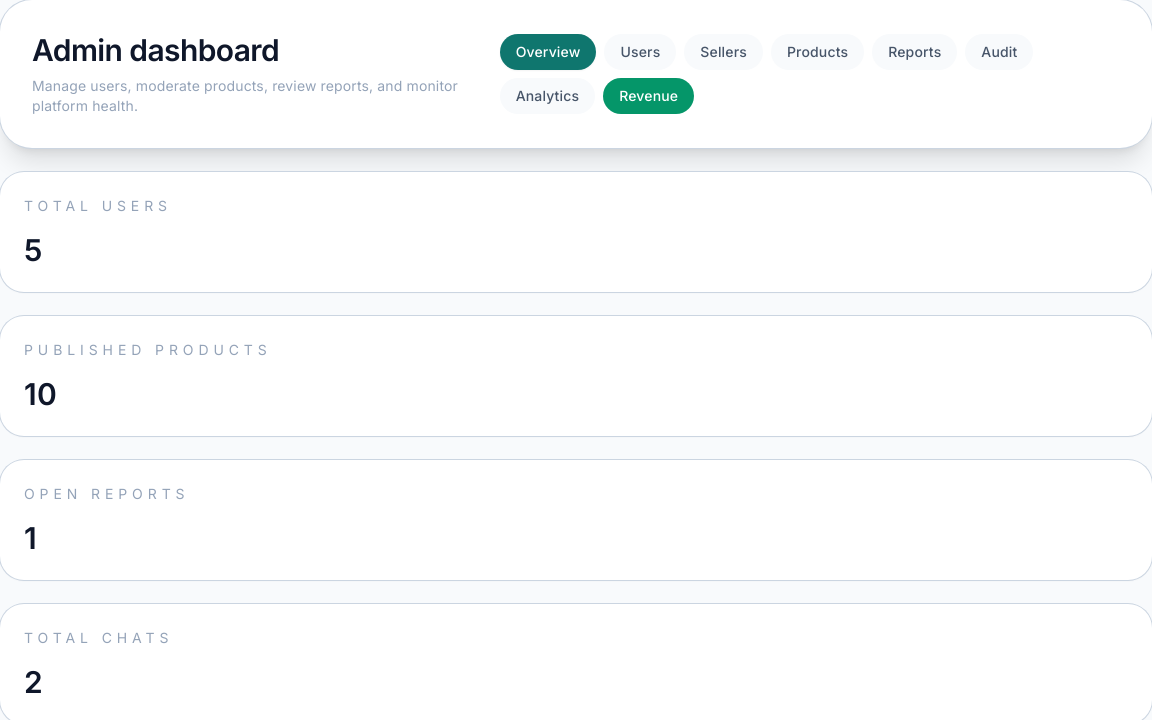
Test case: AdminDashboardPage › can switch to products and reports tabs
Step 1. Click the button "Products" → click(818, 52), box [771,34,864,70]
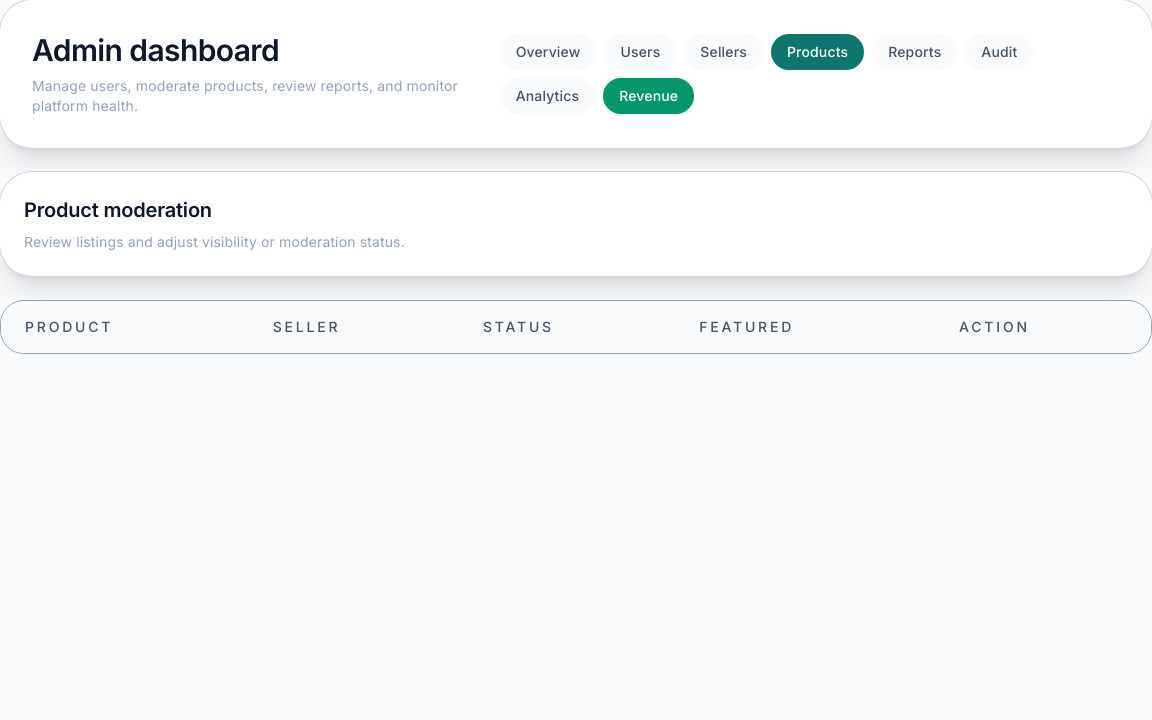
expect the heading "Product moderation" is shown: met, box [24,198,212,222]
Step 2. Click the button "Reports" → click(915, 52), box [872,34,957,70]
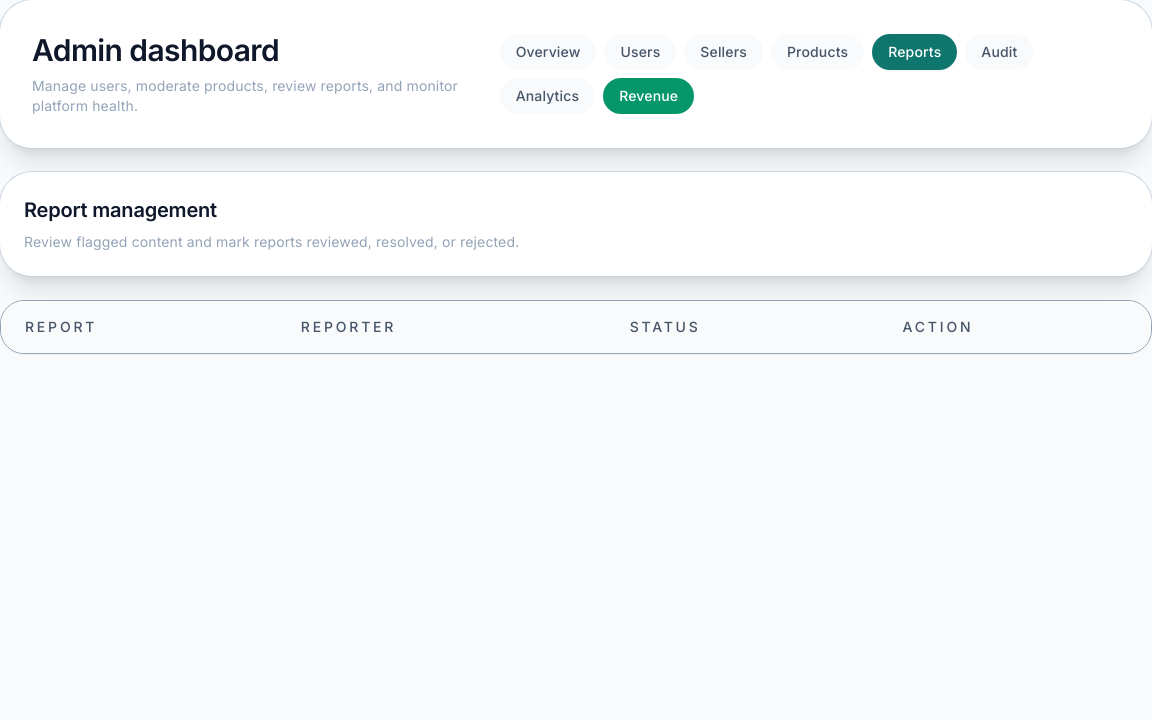
expect the heading "Report management" is shown: met, box [24,198,217,222]
